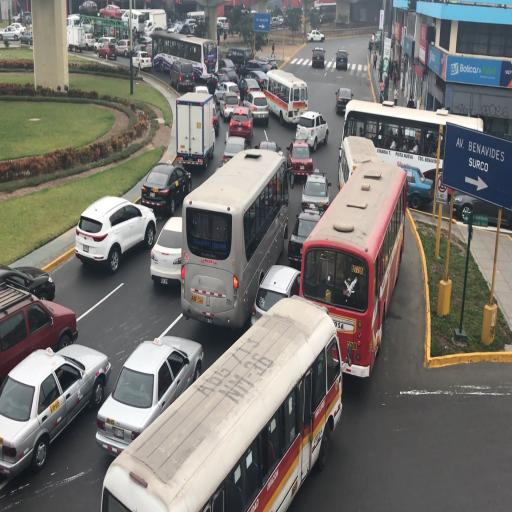auto: (1, 344, 110, 484), (95, 335, 202, 454), (2, 281, 77, 405), (75, 191, 156, 269), (252, 264, 300, 325), (141, 165, 192, 219), (1, 262, 55, 304), (286, 211, 322, 268), (295, 110, 328, 151), (300, 170, 330, 214), (287, 134, 314, 182), (191, 82, 214, 134), (243, 89, 269, 126), (228, 103, 253, 140), (222, 135, 250, 164), (170, 59, 194, 91), (240, 60, 269, 86), (226, 46, 253, 73), (218, 90, 240, 122), (238, 76, 262, 104), (256, 139, 282, 160), (334, 86, 352, 115), (215, 64, 237, 87), (0, 22, 26, 40), (95, 40, 118, 60), (152, 52, 174, 72), (114, 39, 136, 58), (132, 50, 152, 70), (98, 3, 122, 19), (256, 54, 277, 72), (311, 45, 326, 68), (137, 34, 153, 54), (334, 48, 348, 70), (78, 0, 98, 15), (306, 29, 325, 42), (78, 16, 93, 32), (216, 16, 230, 33), (120, 10, 134, 26), (173, 22, 191, 34), (270, 16, 282, 30)
bus: (175, 91, 216, 173), (66, 21, 91, 52)
moto: (102, 302, 328, 508), (305, 152, 403, 374), (346, 99, 482, 217), (264, 68, 307, 127), (340, 134, 382, 192), (124, 8, 166, 38), (313, 1, 335, 24), (185, 10, 206, 24), (66, 14, 82, 28)
